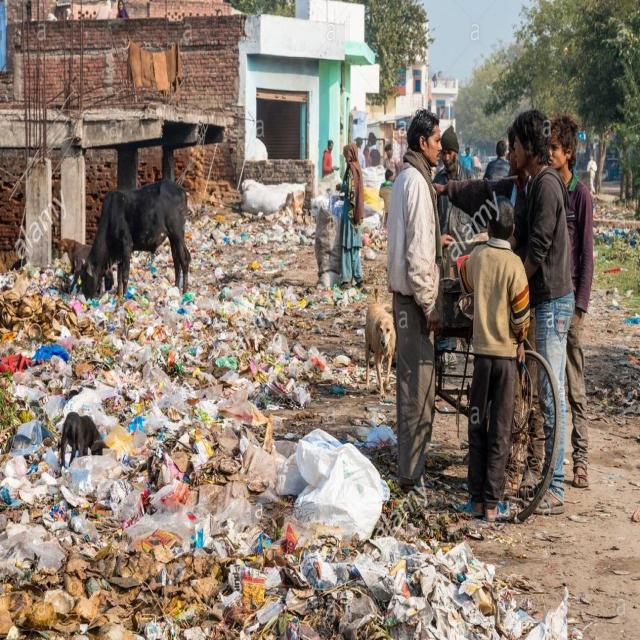garbage: (0, 175, 587, 640)
